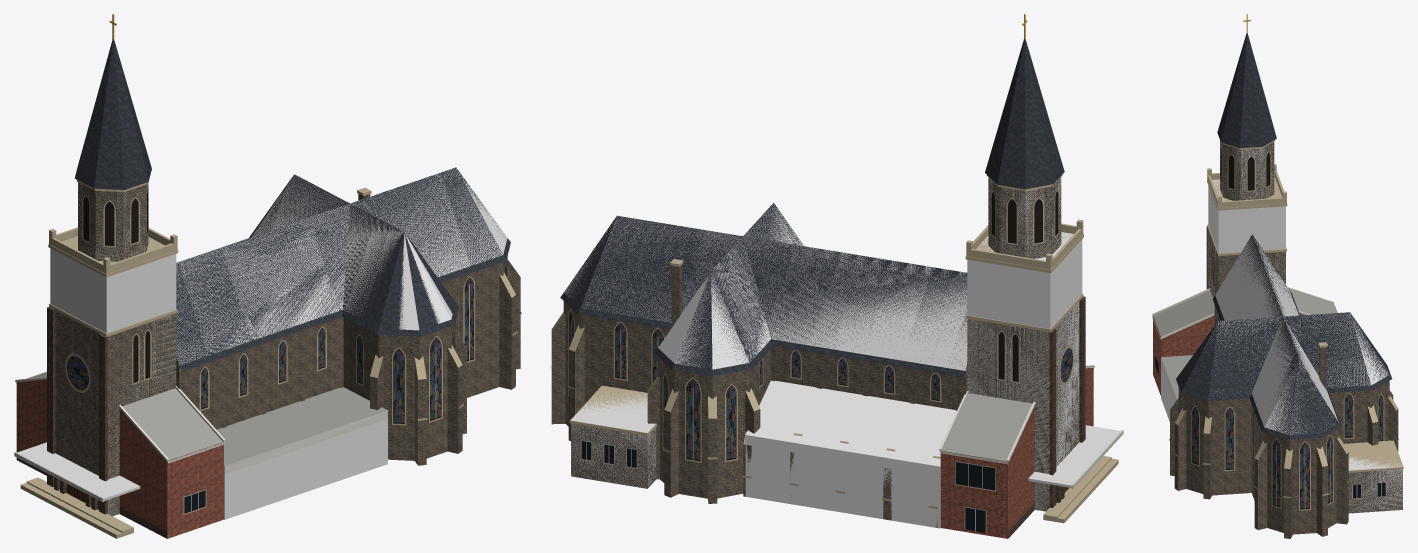
Rendered from st-marien.glb.
The picture shows the model from 3 angles, left to right: view 1: azimuth 30°, elevation 25°; view 2: azimuth 150°, elevation 25°; view 3: azimuth 270°, elevation 25°; orthographic projection. The views are drawn at different scales.
Parts seen in each view (by area): view 1: st-marien, st-marien_col; view 2: st-marien, st-marien_col; view 3: st-marien, st-marien_col.
Boxes of the visible parts, box(x1,y1,x2,y2) form: st-marien: box(14, 14, 521, 538); st-marien_col: box(17, 168, 507, 519); st-marien: box(550, 14, 1123, 538); st-marien_col: box(564, 177, 1120, 528); st-marien: box(1152, 14, 1403, 538); st-marien_col: box(1161, 141, 1402, 513).
Size of the model in its own units: 62.28 by 55.9 by 35.04.
14 materials, 5 textured.
